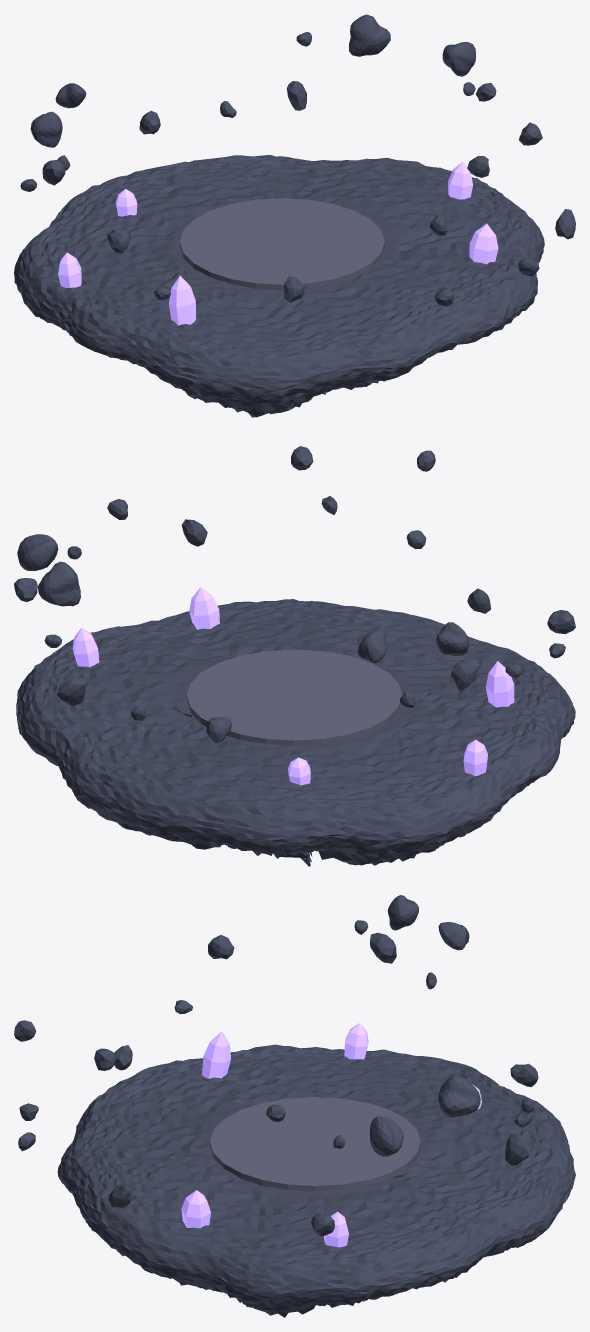
Rendered from island.glb.
3 views of the same model, one above another, from view 1: azimuth 30°, elevation 25°; view 2: azimuth 150°, elevation 25°; view 3: azimuth 270°, elevation 25° (orthographic). The views are drawn at different scales.
Visible parts, largest first — view 1: ISLAND_base, ISLAND_platform, ROCK_float_04, CRYSTAL_01, CRYSTAL_02, ROCK_float_09, ROCK_float_20, CRYSTAL_04, CRYSTAL_03, ROCK_float_15; view 2: ISLAND_base, ISLAND_platform, ROCK_float_04, ROCK_float_09, CRYSTAL_01, CRYSTAL_02, ROCK_float_20, CRYSTAL_04, ROCK_float_15, CRYSTAL_03, ROCK_float_10, ROCK_float_22 (+2 smaller); view 3: ISLAND_base, ISLAND_platform, ROCK_float_04, ROCK_float_09, CRYSTAL_01, CRYSTAL_02, ROCK_float_20, CRYSTAL_03, ROCK_float_15, ROCK_float_22, ROCK_float_10, CRYSTAL_04.
Part boxes in pixels (left/top/right/bottom): ISLAND_base: left=14, top=155, right=544, bottom=417; ISLAND_platform: left=180, top=198, right=384, bottom=290; ROCK_float_04: left=349, top=14, right=390, bottom=56; CRYSTAL_01: left=168, top=275, right=195, bottom=325; CRYSTAL_02: left=469, top=223, right=498, bottom=264; ROCK_float_09: left=442, top=42, right=475, bottom=76; ROCK_float_20: left=30, top=111, right=62, bottom=147; CRYSTAL_04: left=448, top=161, right=472, bottom=199; CRYSTAL_03: left=58, top=252, right=81, bottom=287; ROCK_float_15: left=55, top=83, right=86, bottom=108; ISLAND_base: left=16, top=599, right=575, bottom=866; ISLAND_platform: left=186, top=649, right=402, bottom=745; ROCK_float_04: left=37, top=561, right=80, bottom=606; ROCK_float_09: left=17, top=534, right=58, bottom=570; CRYSTAL_01: left=485, top=661, right=514, bottom=707; CRYSTAL_02: left=189, top=587, right=219, bottom=629; ROCK_float_20: left=436, top=622, right=468, bottom=655; CRYSTAL_04: left=72, top=627, right=99, bottom=667; ROCK_float_15: left=358, top=629, right=386, bottom=663; CRYSTAL_03: left=463, top=739, right=487, bottom=775; ROCK_float_10: left=450, top=659, right=479, bottom=690; ROCK_float_22: left=57, top=678, right=86, bottom=706; ISLAND_base: left=57, top=1044, right=575, bottom=1317; ISLAND_platform: left=210, top=1097, right=420, bottom=1191; ROCK_float_04: left=438, top=1075, right=480, bottom=1117; ROCK_float_09: left=369, top=1116, right=403, bottom=1156; CRYSTAL_01: left=202, top=1031, right=231, bottom=1078; CRYSTAL_02: left=181, top=1190, right=210, bottom=1228; ROCK_float_20: left=387, top=895, right=418, bottom=930; CRYSTAL_03: left=344, top=1023, right=368, bottom=1059; ROCK_float_15: left=438, top=922, right=469, bottom=950; ROCK_float_22: left=505, top=1133, right=530, bottom=1165; ROCK_float_10: left=370, top=932, right=396, bottom=963; CRYSTAL_04: left=324, top=1211, right=348, bottom=1247.
Size of the model in its own units: 8.9 by 5.08 by 8.43.
